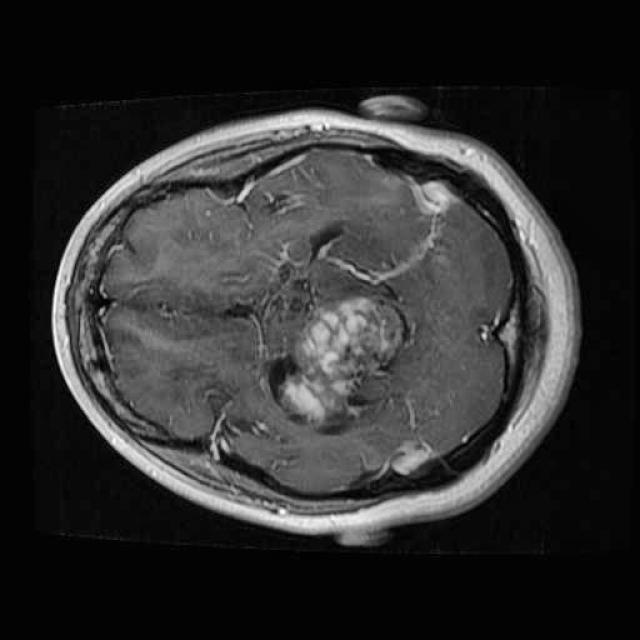Non-Tumor: (262, 281, 422, 438)
